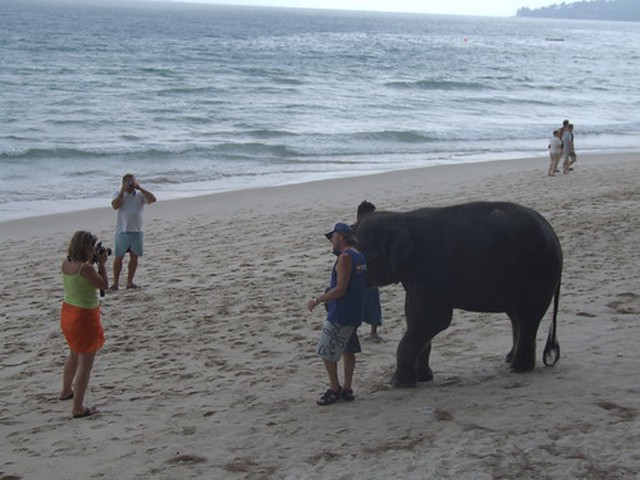Elephant: (359, 196, 578, 386)
Person: (311, 214, 380, 402), (50, 230, 113, 416), (110, 172, 156, 295), (547, 115, 582, 178)
